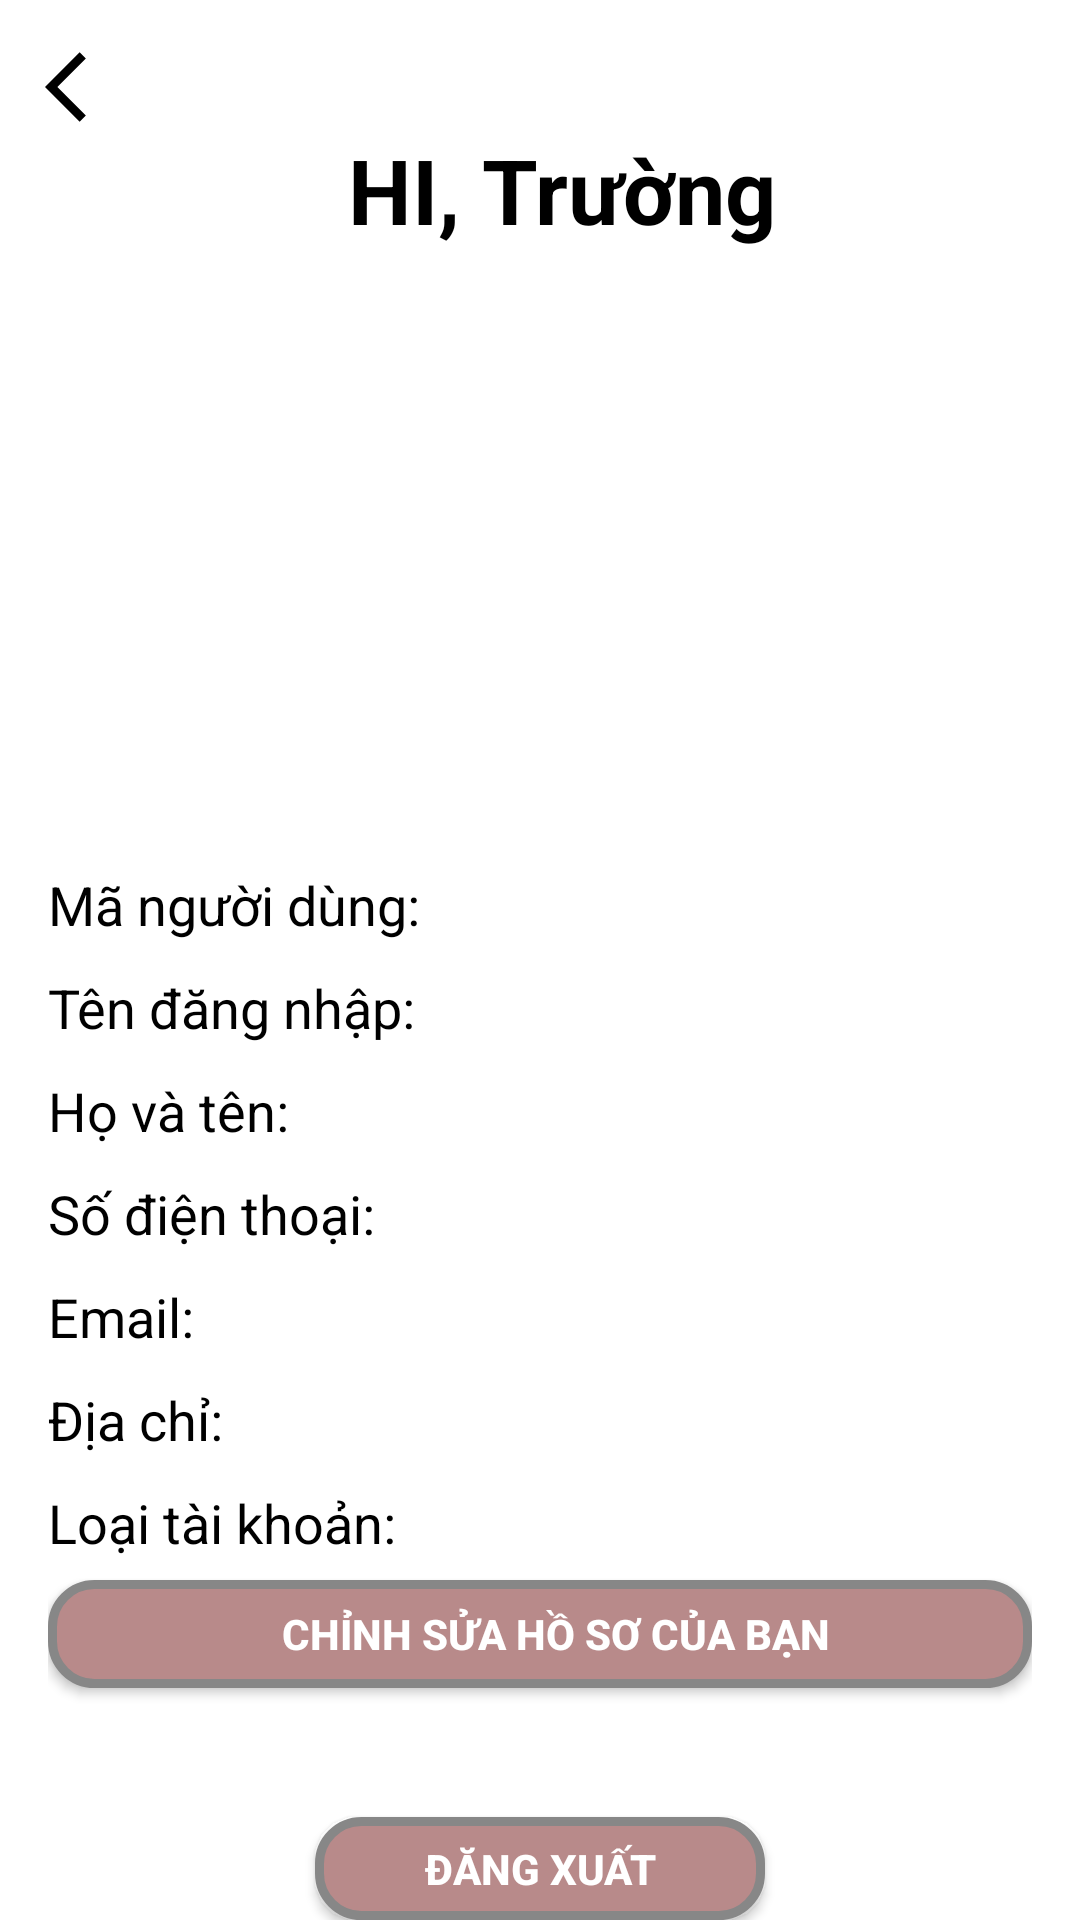

Point at icon controls on the screen. Image size 1080px x 1920px, points as point (x, y).
back: point (65, 87)
